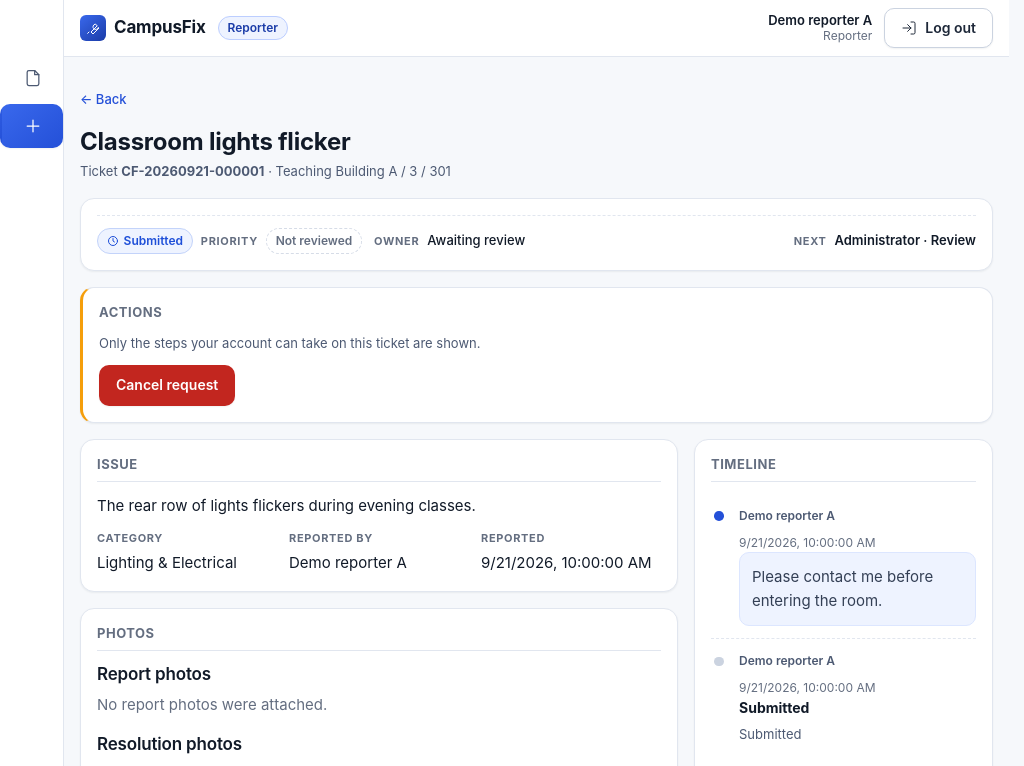
ticket detail page (#91) › closes a stale action when the ticket moved on and reports the conflict
What coordinates should you click on to do the following:
click the button "Cancel request"
I would click on:
 (167, 386)
Its box is [99, 365, 235, 406].
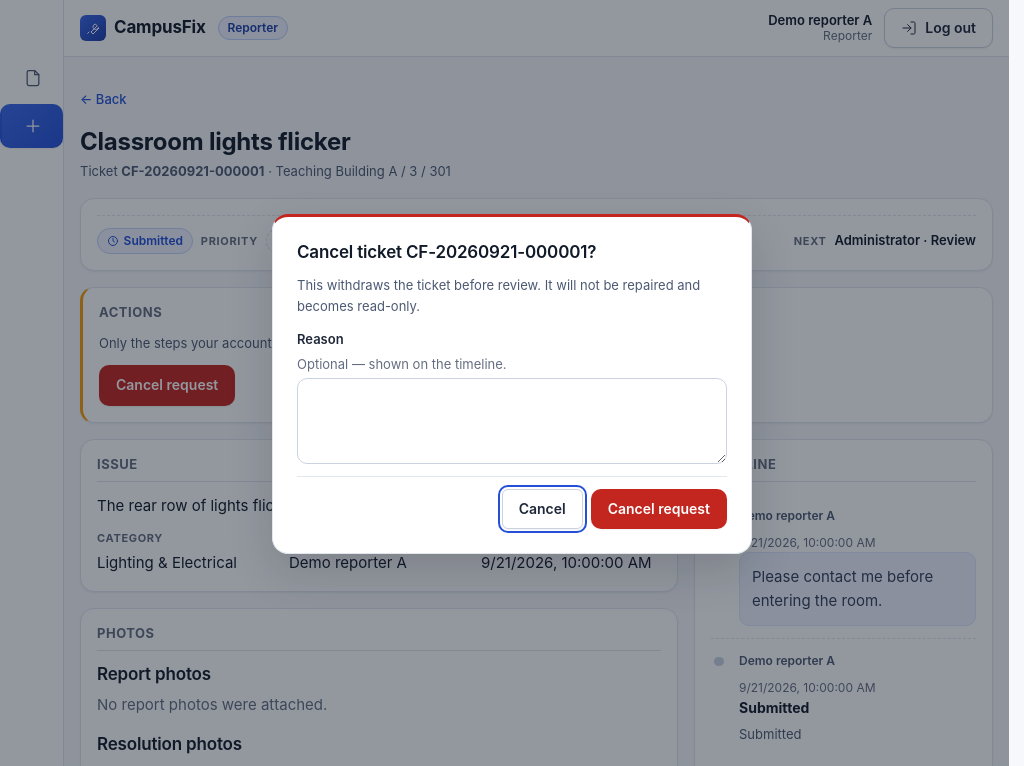
What coordinates should you click on to do the following:
click the button "Cancel request"
I would click on:
 (659, 509)
Its box is [591, 488, 727, 529].
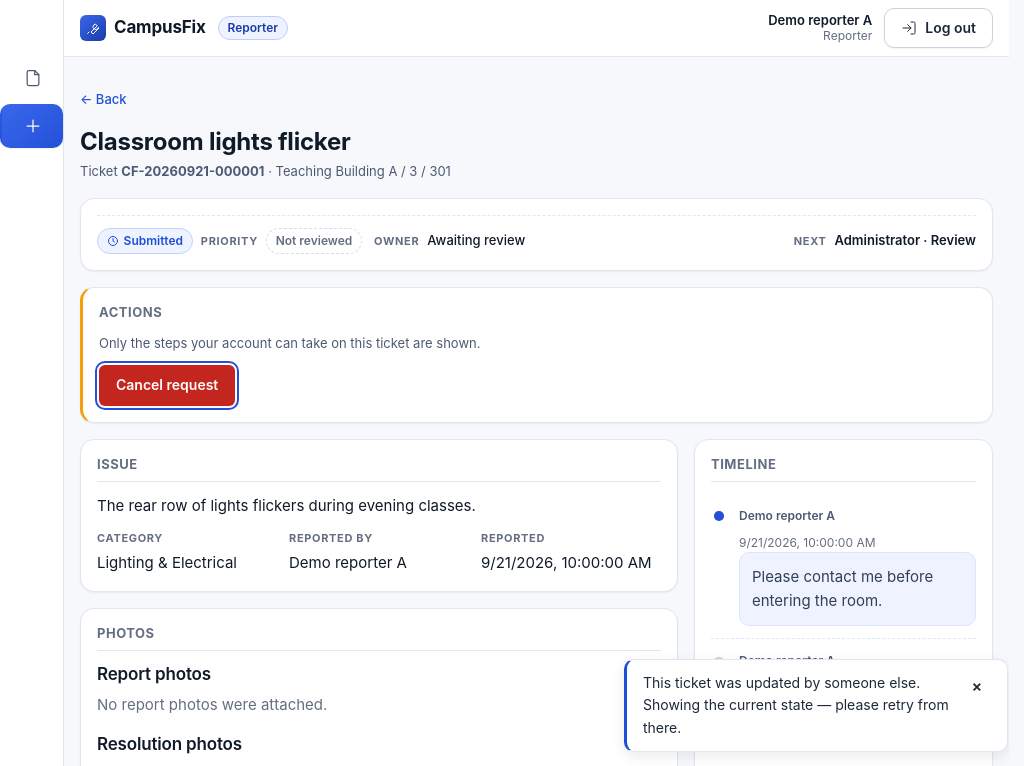
Check: the text "updated by someone else" is shown, box [643, 674, 949, 736]
Check: the dialog is gone
